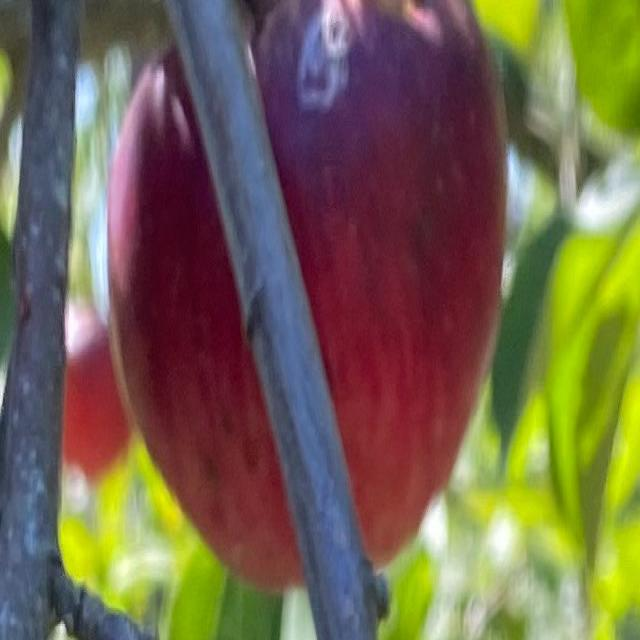Apples: (107, 0, 508, 590), (59, 301, 128, 478)
